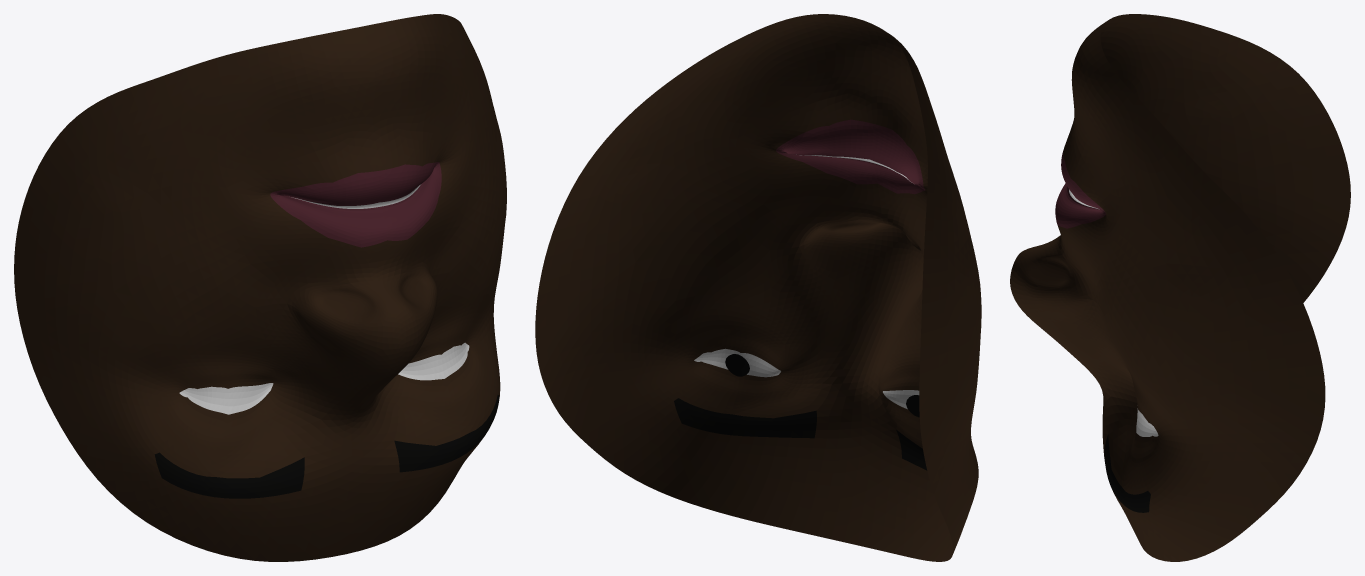
File: VID-20250515-WA0002_f_00078.obj
3 views of the same model, side by side, from view 1: azimuth 30°, elevation 25°; view 2: azimuth 150°, elevation 25°; view 3: azimuth 270°, elevation 25° (orthographic). The views are drawn at different scales.
Parts seen in each view (by area): view 1: face_mesh_subdivided; view 2: face_mesh_subdivided; view 3: face_mesh_subdivided.
Boxes of the visible parts, x1,y1,x2,y2 form: face_mesh_subdivided: (14,14,506,561); face_mesh_subdivided: (535,14,981,561); face_mesh_subdivided: (1010,14,1350,561).
Size of the model in its own units: 0.4261 by 0.5182 by 0.3265.
